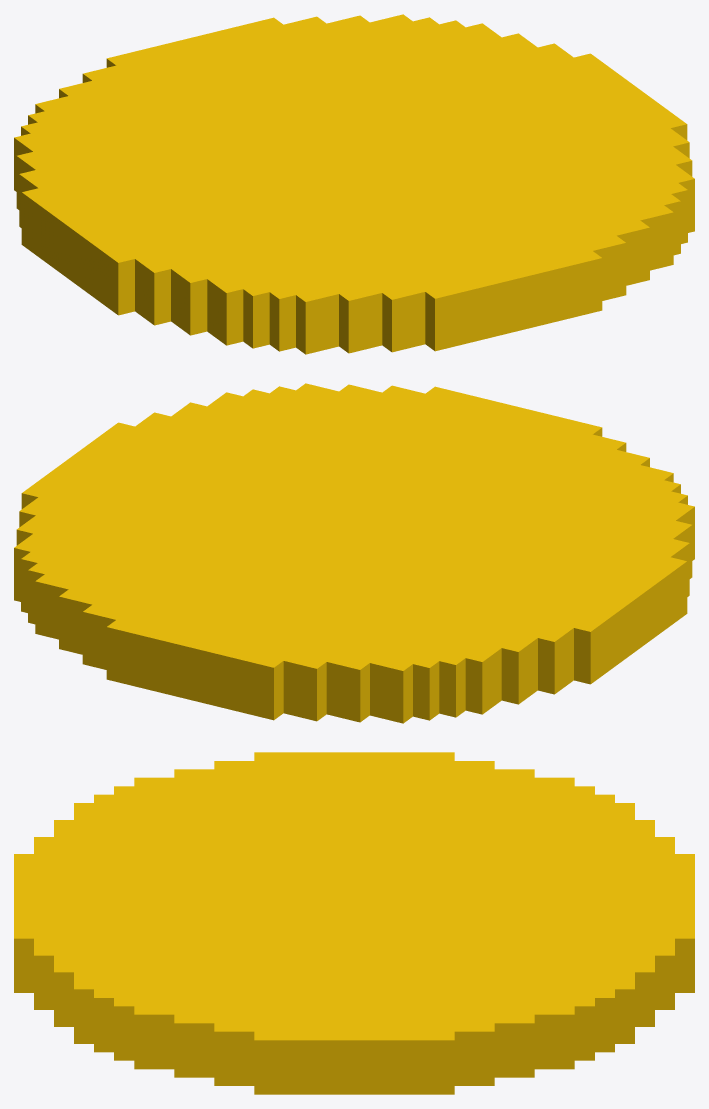
File: Cheese.obj
The picture shows the model from 3 angles, top to bottom: view 1: azimuth 30°, elevation 25°; view 2: azimuth 150°, elevation 25°; view 3: azimuth 270°, elevation 25°; orthographic projection. The views are drawn at different scales.
Size of the model in its own units: 3.4 by 0.3 by 3.4.
Materials: 1 (1 with a texture image).
